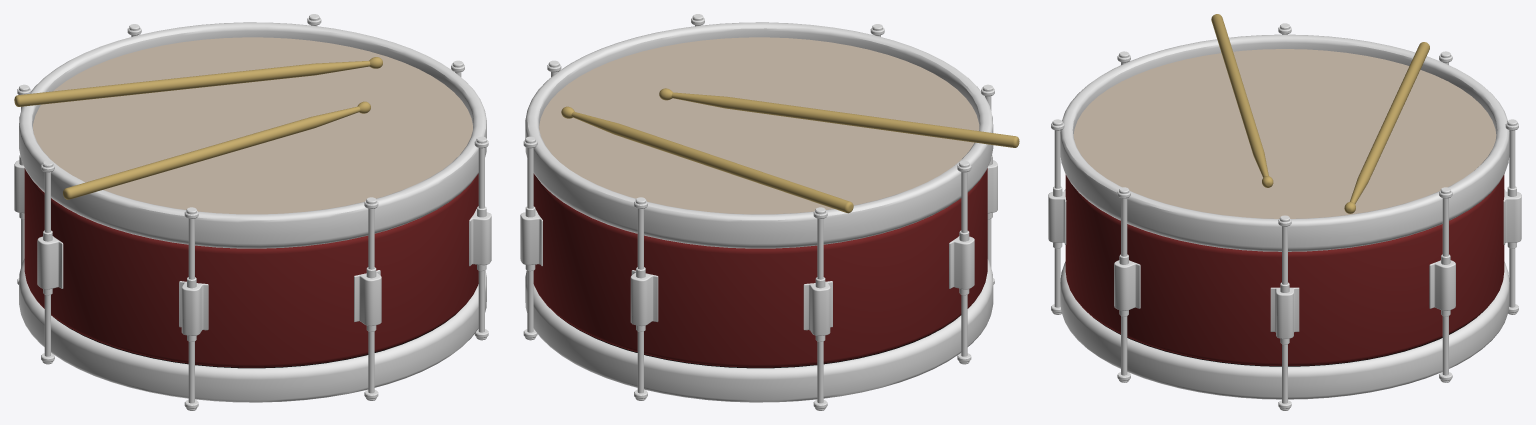
The model's file is drum.glb.
The picture shows the model from 3 angles, left to right: view 1: azimuth 30°, elevation 25°; view 2: azimuth 150°, elevation 25°; view 3: azimuth 270°, elevation 25°; orthographic projection. The views are drawn at different scales.
Visible parts, largest first — view 1: Cylinder_2, Cylinder.004_11, Cylinder.003_7, Cylinder.001_3, Cylinder.002_4, Cube.002_9, Cube.003_10, Cube_6, Cube.001_8; view 2: Cylinder_2, Cylinder.003_7, Cylinder.004_11, Cylinder.001_3, Cylinder.002_4, Cube.003_10, Cube.002_9, Cube_6, Cube.001_8; view 3: Cylinder_2, Cylinder.002_4, Cylinder.001_3, Cylinder.004_11, Cylinder.003_7, Cube_6, Cube.001_8, Cube.002_9, Cube.003_10.
Part boxes in pixels (x1,y1,x2,y2): Cylinder_2: [19, 22, 486, 402]; Cylinder.004_11: [14, 57, 382, 106]; Cylinder.003_7: [63, 101, 370, 199]; Cylinder.001_3: [17, 14, 488, 410]; Cylinder.002_4: [41, 24, 464, 400]; Cube.002_9: [14, 160, 491, 266]; Cube.003_10: [179, 281, 208, 335]; Cube_6: [354, 270, 381, 326]; Cube.001_8: [37, 236, 63, 289]; Cylinder_2: [525, 22, 993, 402]; Cylinder.003_7: [659, 88, 1019, 147]; Cylinder.004_11: [561, 106, 853, 213]; Cylinder.001_3: [523, 14, 994, 410]; Cylinder.002_4: [547, 24, 971, 400]; Cube.003_10: [520, 160, 997, 266]; Cube.002_9: [803, 281, 832, 335]; Cube_6: [630, 270, 658, 326]; Cube.001_8: [949, 236, 974, 289]; Cylinder_2: [1060, 34, 1509, 399]; Cylinder.002_4: [1051, 23, 1518, 410]; Cylinder.001_3: [1117, 51, 1452, 382]; Cylinder.004_11: [1344, 42, 1429, 213]; Cylinder.003_7: [1211, 14, 1273, 187]; Cube_6: [1048, 189, 1521, 244]; Cube.001_8: [1270, 287, 1299, 338]; Cube.002_9: [1114, 260, 1140, 310]; Cube.003_10: [1429, 260, 1455, 310].
Size of what is drawn, in the model's own units: 2.16 by 0.9591 by 2.1.
